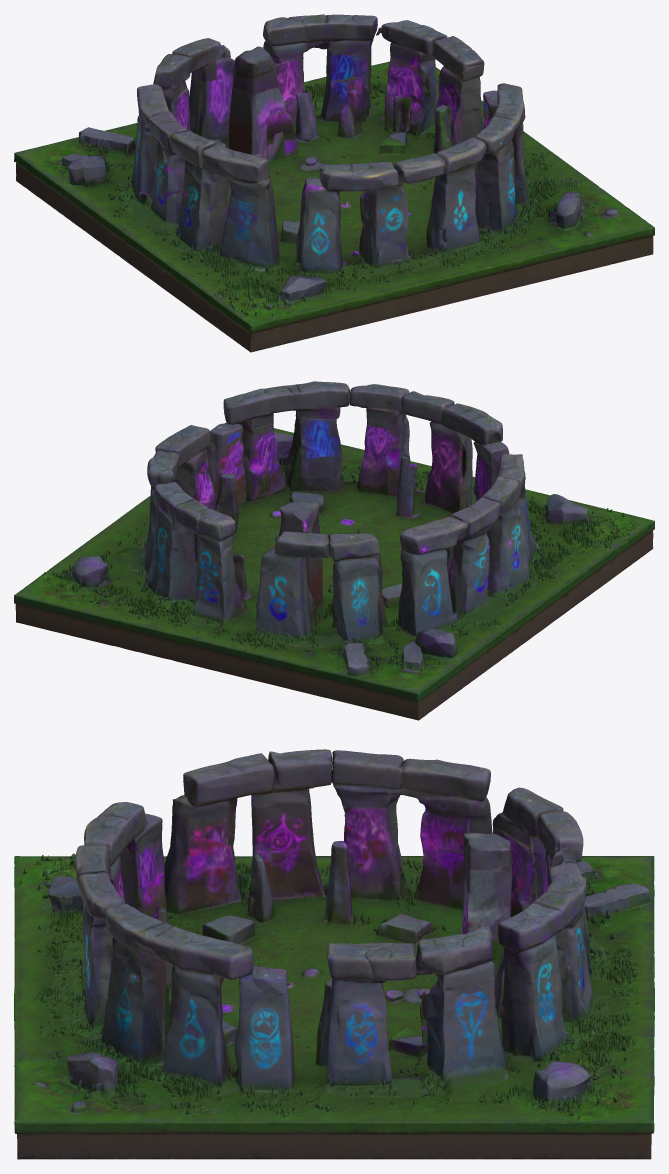
Rendered from Meshy_AI__England_Mystic_Ston_1016193730_texture.fbx.
3 renders of one model, top to bottom at view 1: azimuth 30°, elevation 25°; view 2: azimuth 150°, elevation 25°; view 3: azimuth 270°, elevation 25°, orthographic. The views are drawn at different scales.
Visible parts, largest first — view 1: Mesh_0; view 2: Mesh_0; view 3: Mesh_0.
Boxes of the visible parts, x1,y1,x2,y2 form: Mesh_0: (14,14,654,352); Mesh_0: (14,381,654,720); Mesh_0: (14,749,654,1159).
Size of the model in its own units: 197 by 59.54 by 200.
1 material, 1 textured.
